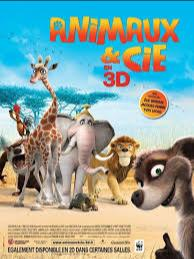Non_Gorille: (11, 45, 192, 211)
